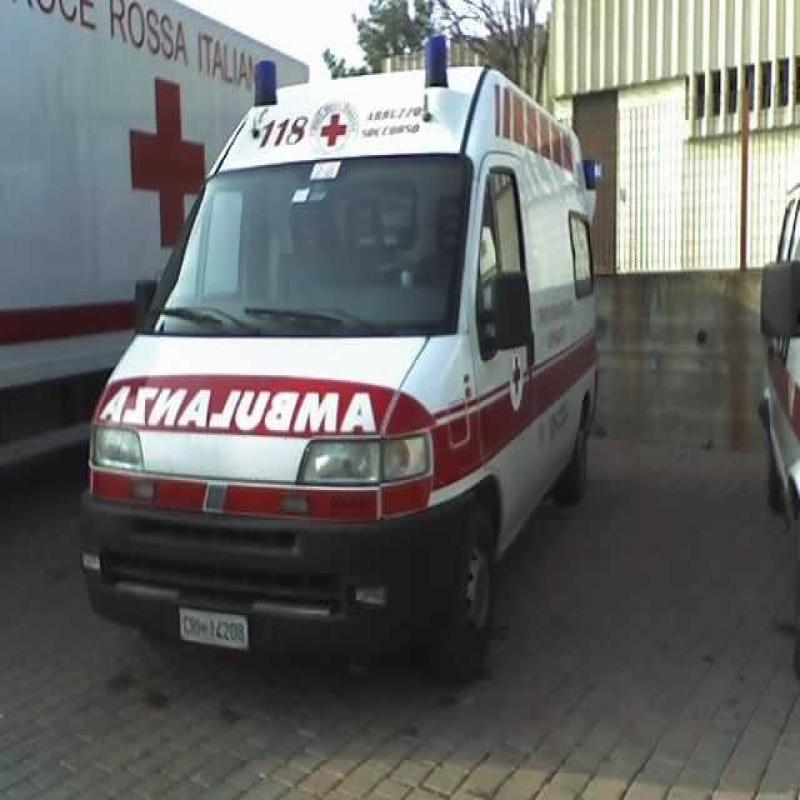AmbulanceSiren: (410, 23, 466, 112), (245, 47, 288, 116)
